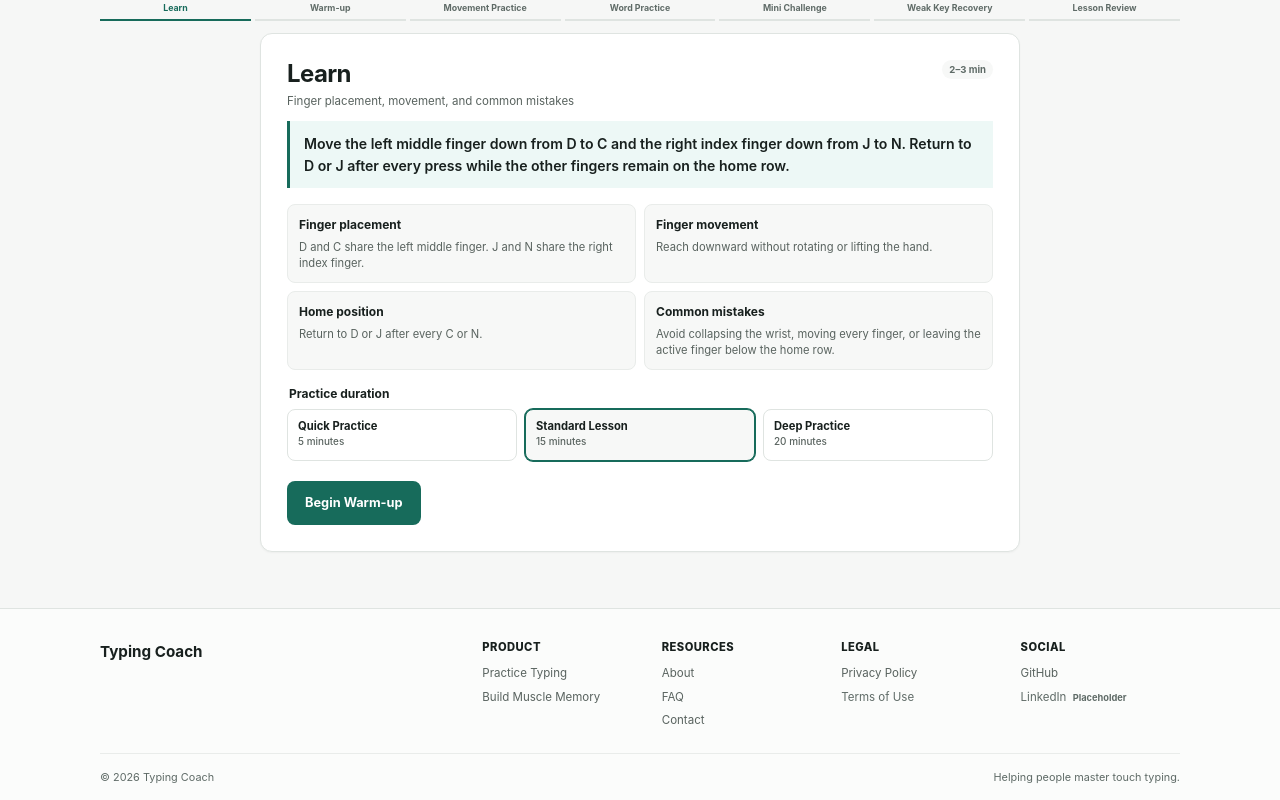
Bottom Row Introduction — C and N › uses C and N in rotating warm-ups with the existing finger guide
This screenshot has width=1280, height=800.
(page scrolled)
Click the button "Begin Warm-up": coordinates (354, 504) [287,482,421,526]
(page scrolled)
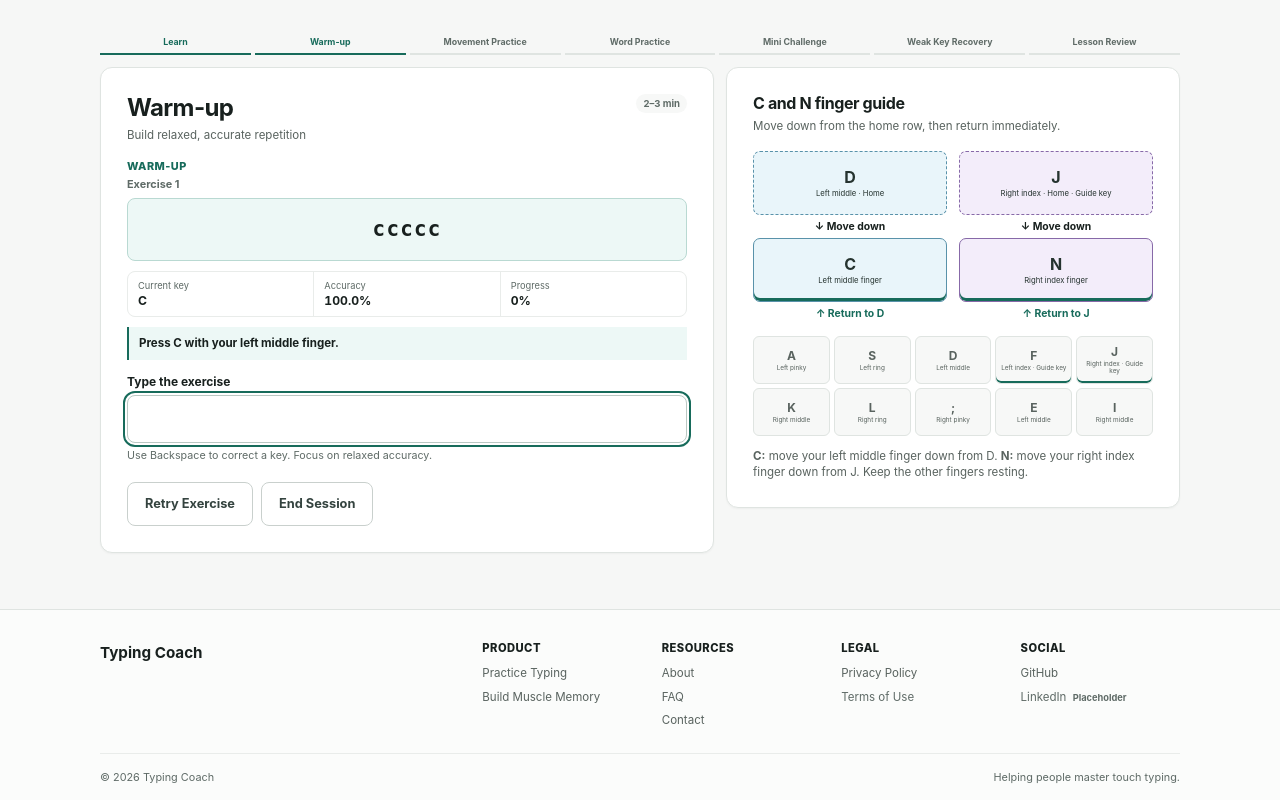
Now the field labelled "Type the exercise" is shown
Now the element named "C and N keyboard finger movement" is shown, box [753,151,1153,320]
Now the text "Press C with your left middle finger." is shown, box [127,327,687,360]
In the field labelled "Type the exercise": coordinates (407, 418) [127,394,687,442], type "ccccc"
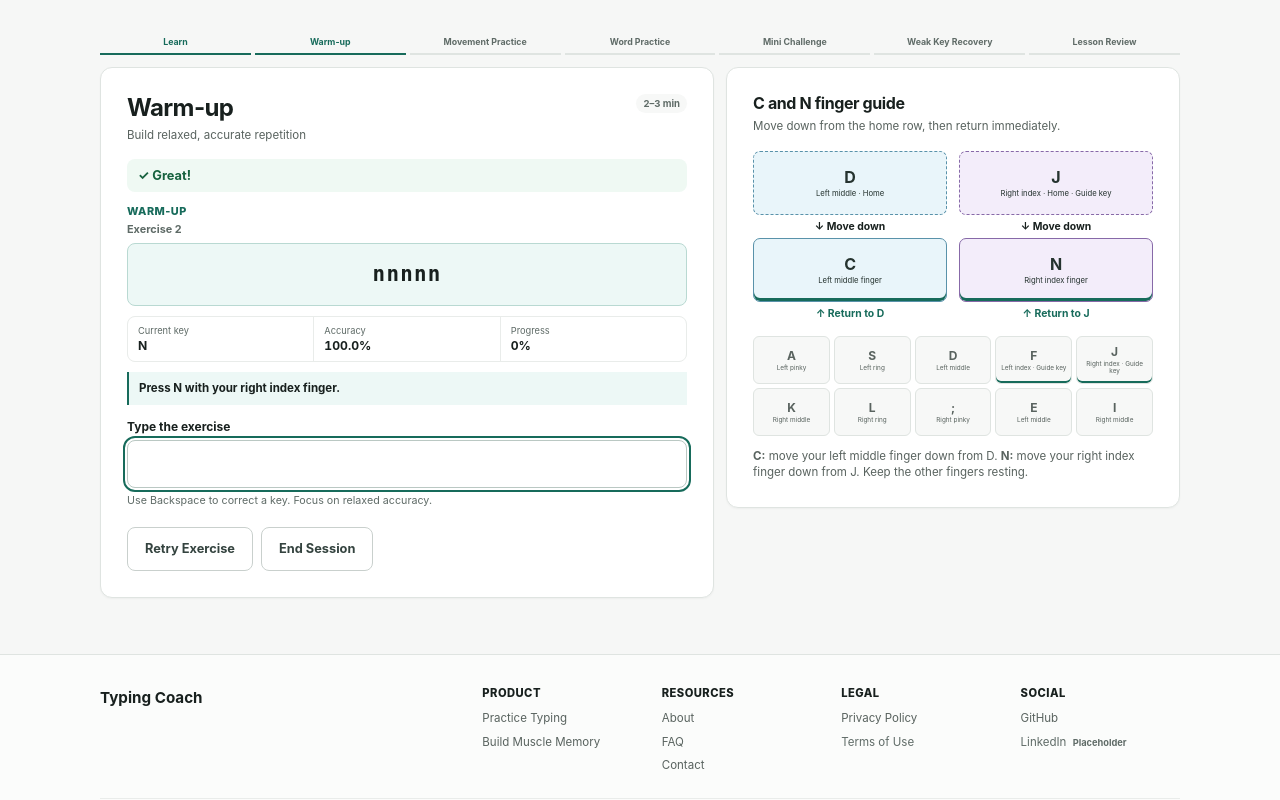
Now the text "Press N with your right index finger." is shown, box [127,372,687,404]
